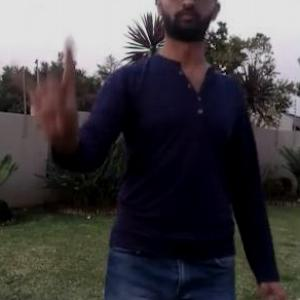takeoff-hand: (0, 39, 87, 142)
